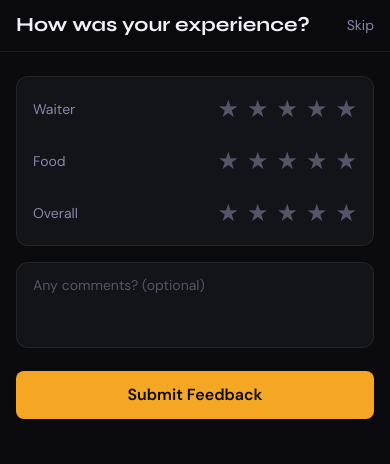
Test: PF05 - Feedback › Submit without overall rating shows validation error
Click the button with test id "submit-btn" at (195, 395), box [16,371,374,419]
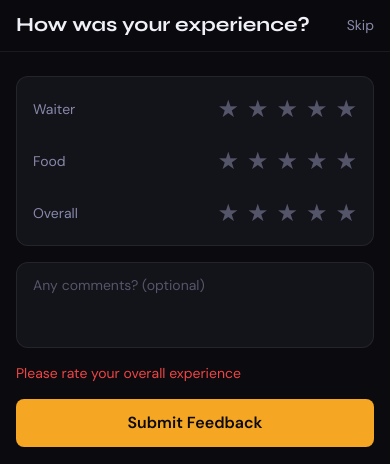
Result: the text with test id "feedback-error" shows "overall" at [16,364,241,382]
